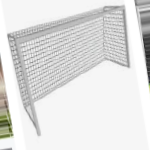goals: (5, 4, 131, 136)
